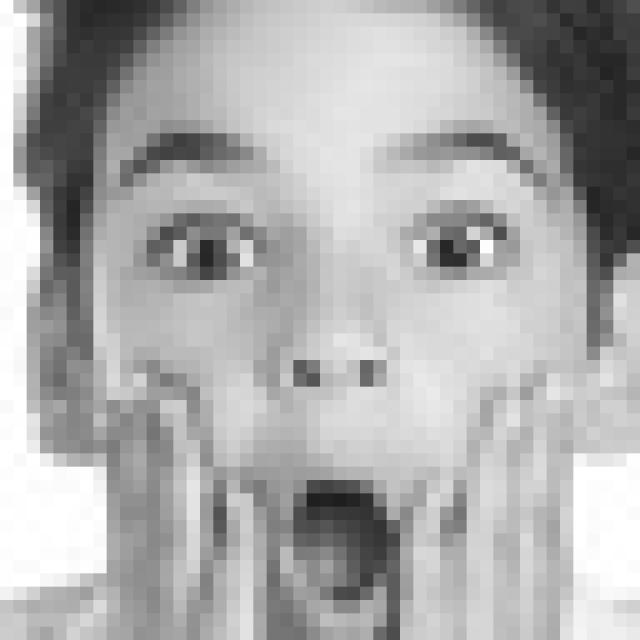surprise: (124, 118, 561, 640)
